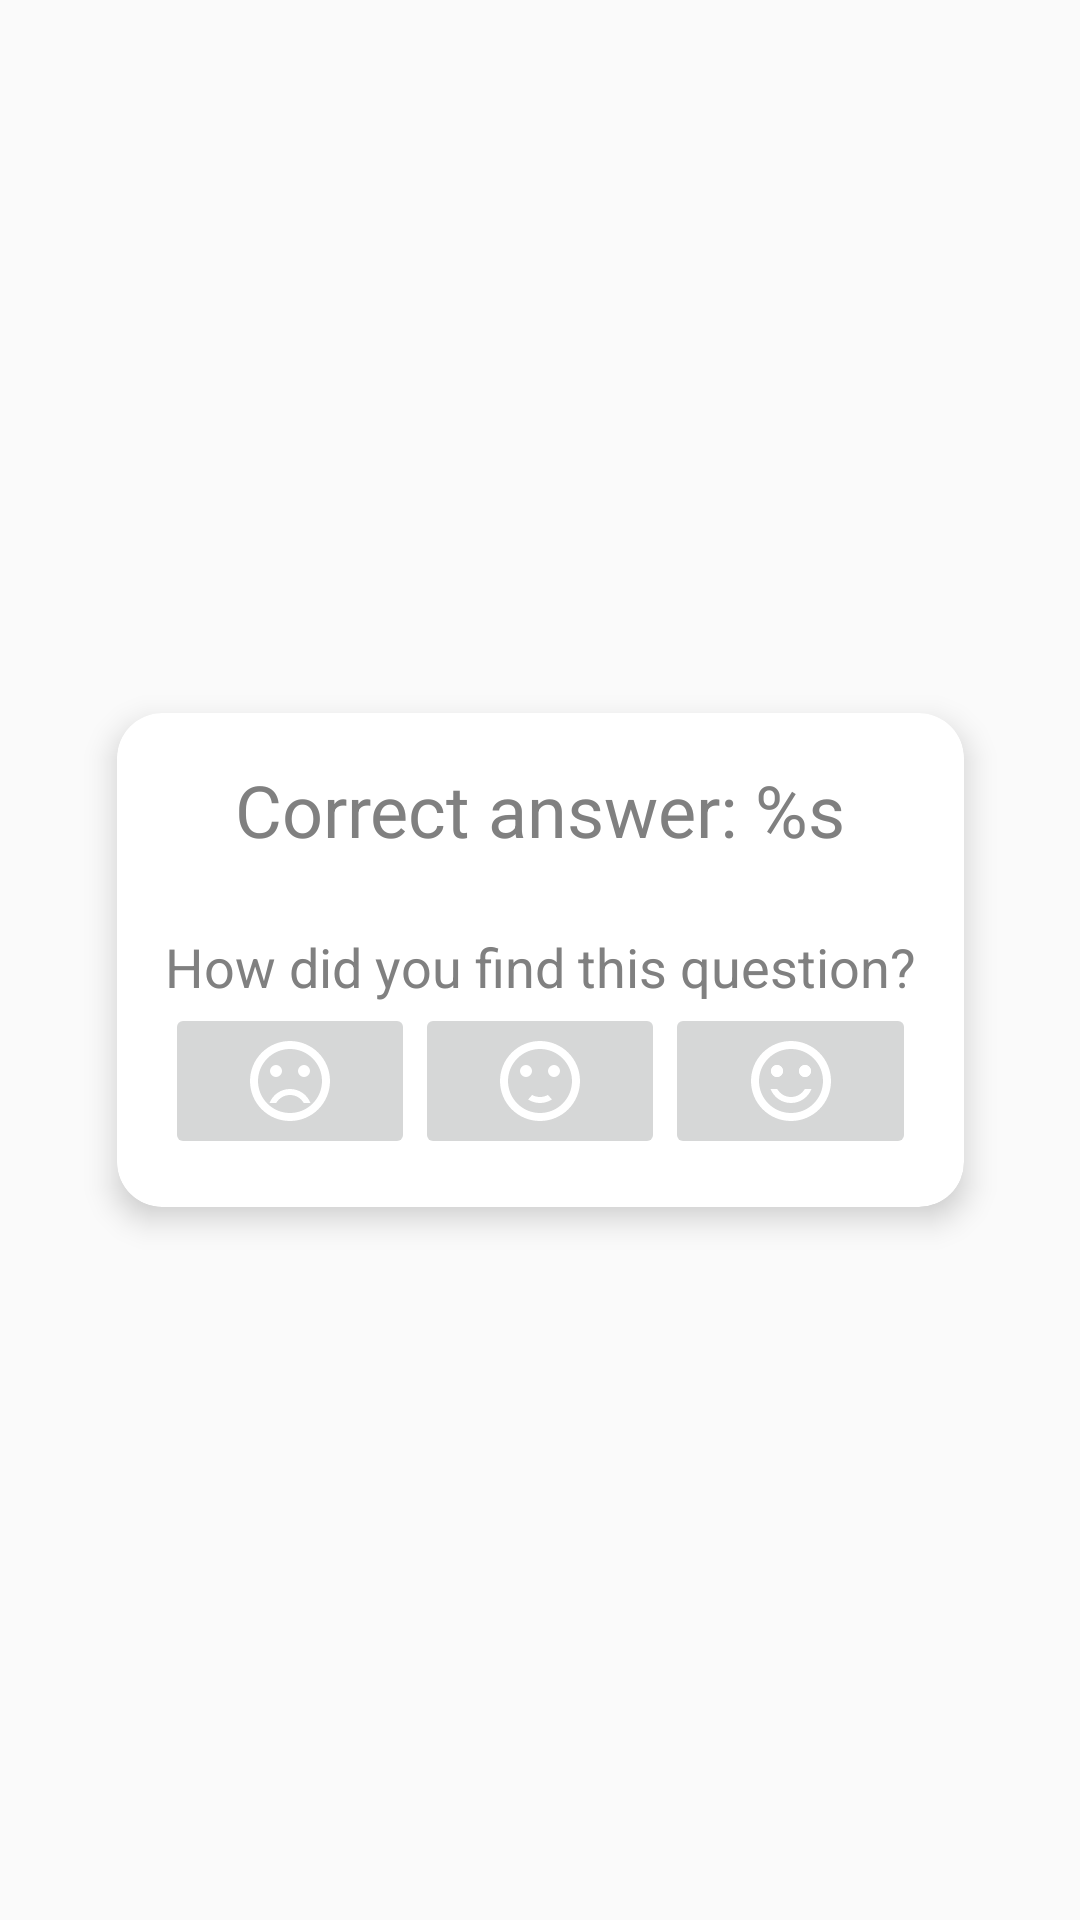

Icons on this 1080×1920 Android screen, each with the point to tap as point (x, y):
sentiment okay: point (540, 1081)
sentiment satisfied: point (790, 1081)
sentiment very dissatisfied: point (290, 1081)
